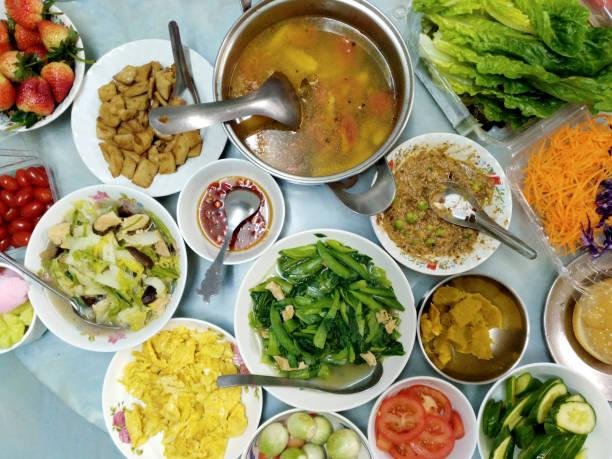Braised Crucian Carp: (208, 1, 414, 191), (232, 230, 415, 411), (25, 183, 187, 349), (71, 37, 225, 197), (100, 317, 257, 456), (370, 132, 506, 276)
